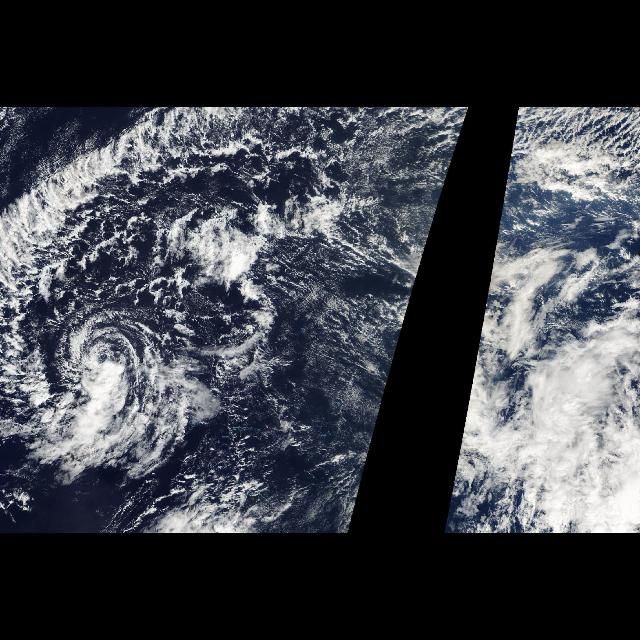Fish: (0, 107, 248, 420)
Sugar: (285, 252, 385, 456), (0, 107, 100, 199)
